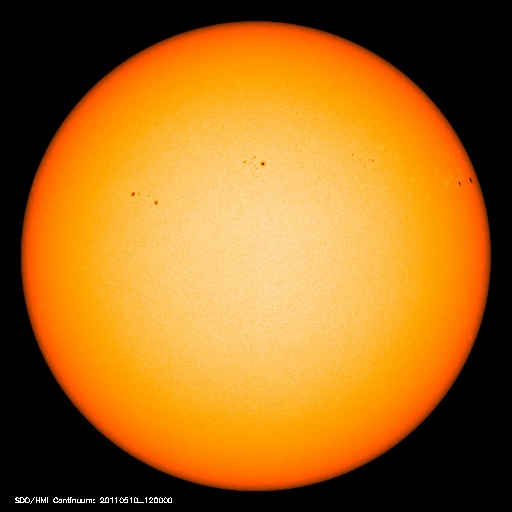sunspot: (119, 184, 164, 213), (340, 144, 383, 173), (236, 151, 274, 177), (451, 169, 481, 194)
